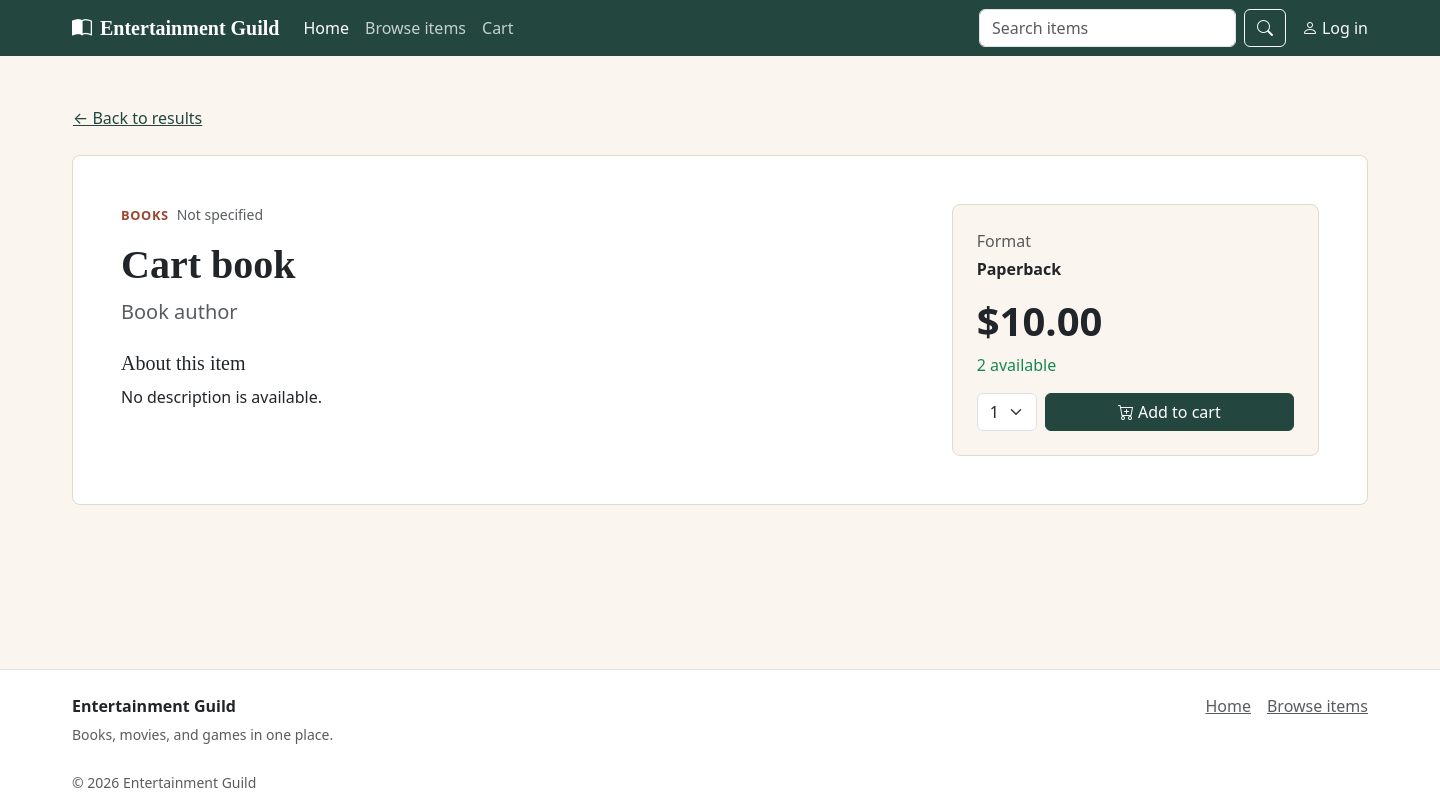
Test: adds an item to the cart and limits quantity to the stock available
Expected: the heading "Cart book" is shown, [121, 242, 296, 287]
Select "2" in the dropdown named "Quantity" at (1007, 412), box [977, 393, 1037, 431]
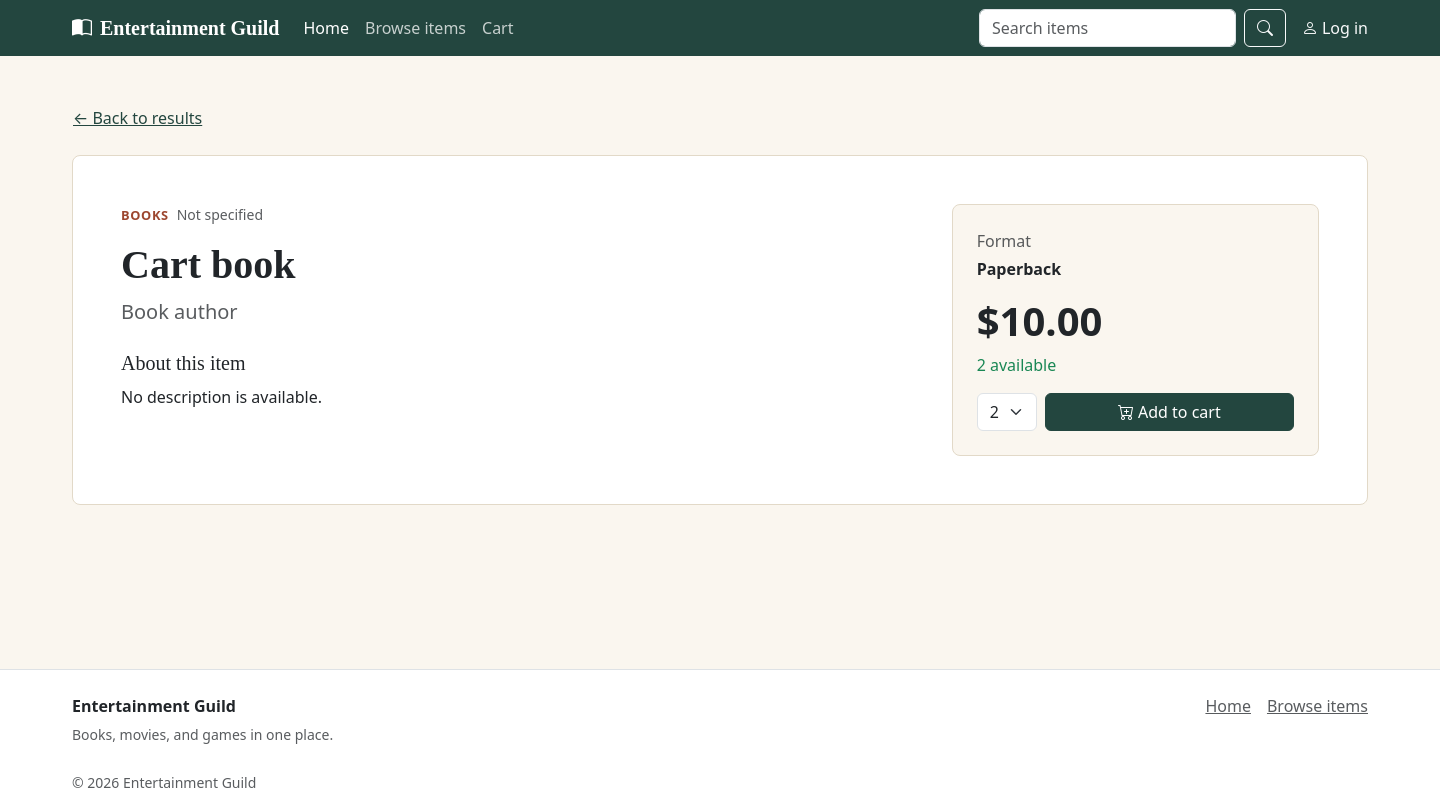
Click the button "Add to cart".
click(1169, 412)  # box [1045, 393, 1294, 431]
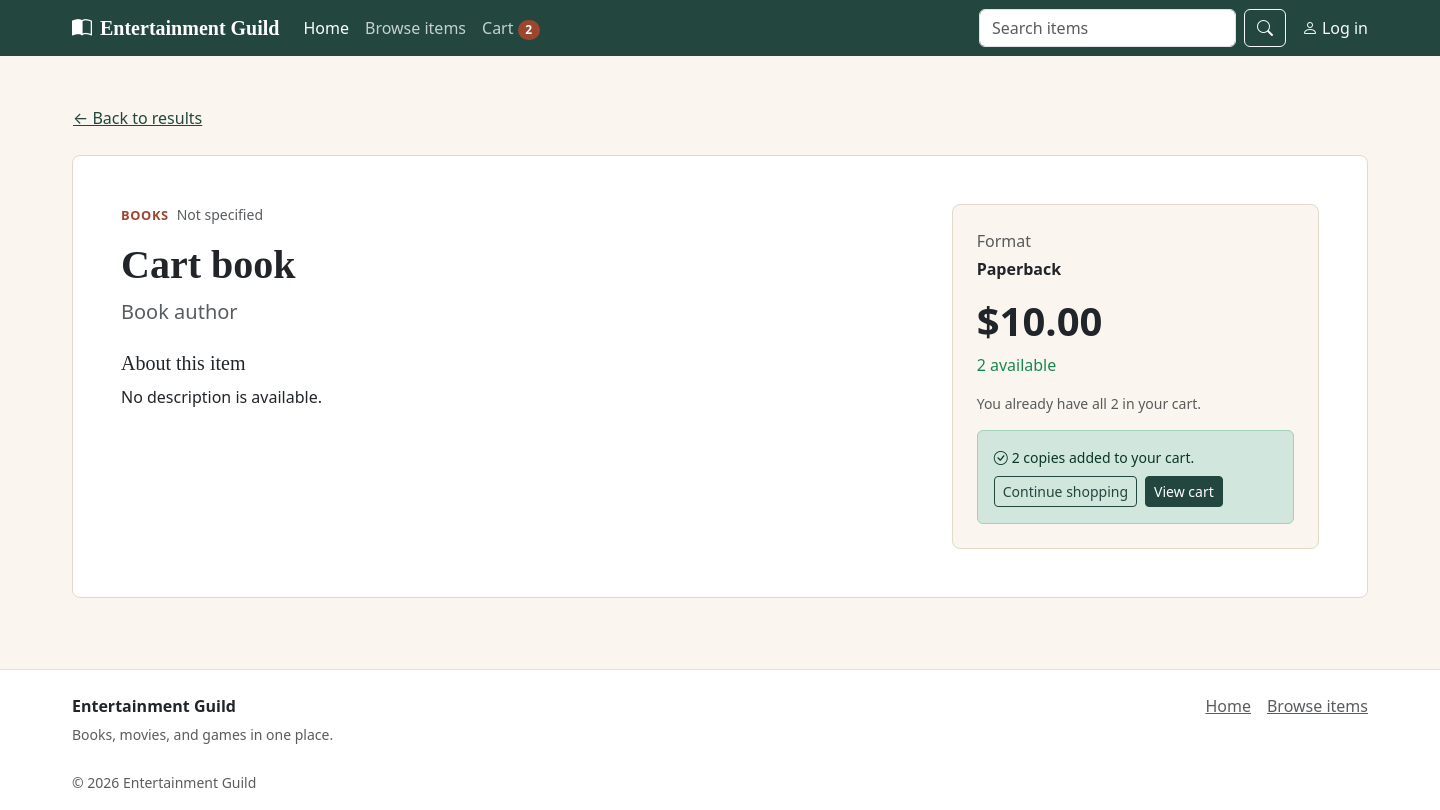
Result: the text "2 copies added to your cart. Continue shopping View cart" is shown at [977, 430, 1294, 524]
Result: the text "You already have all 2 in your cart." is shown at [977, 394, 1201, 413]
Click the link "View cart".
click(1184, 491)  # box [1145, 476, 1223, 507]
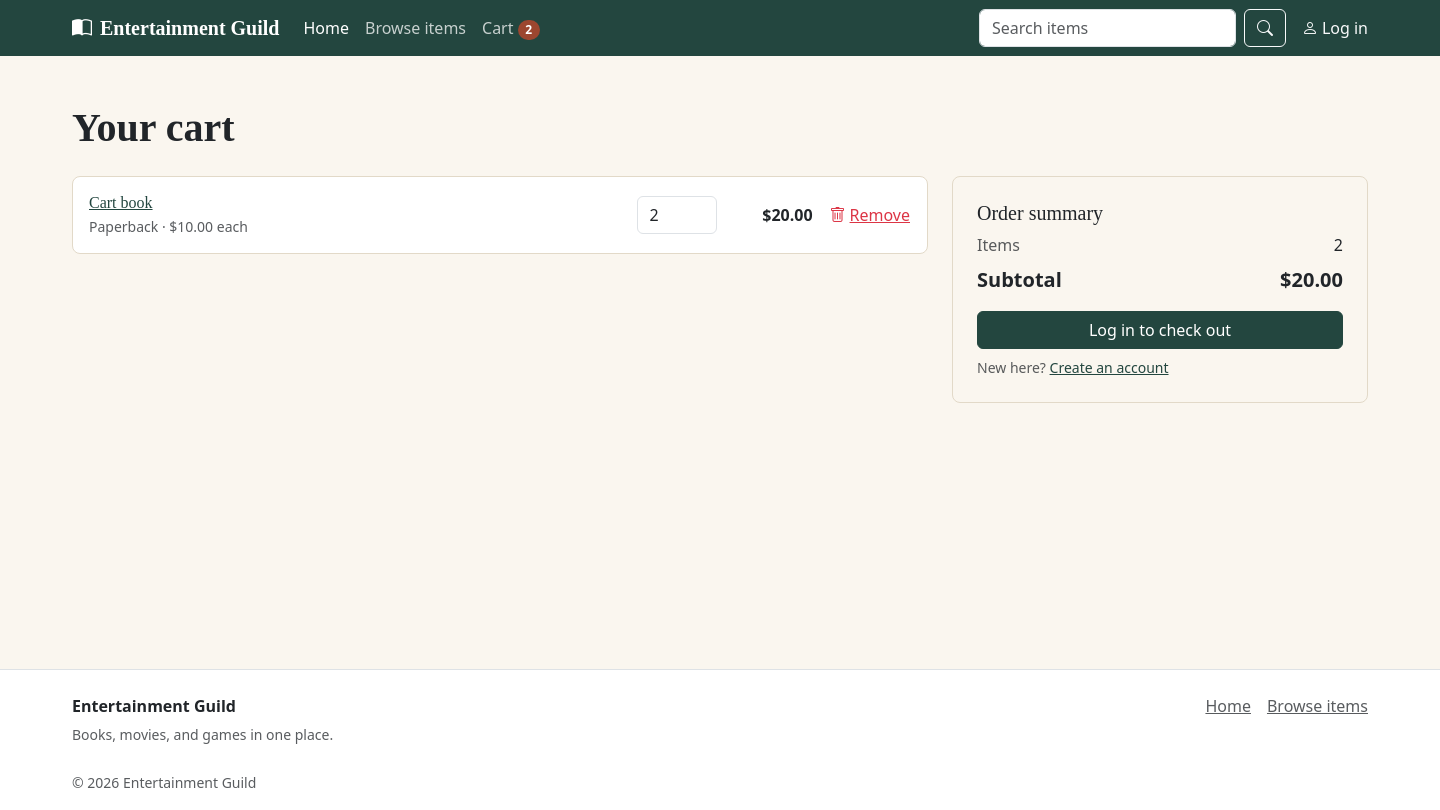
Result: the heading "Your cart" is shown at [72, 105, 235, 150]
Result: the text "$20.00" in the row of "each" is shown at [762, 204, 812, 226]
Can't go over stock
Replace the text in the number field named "Quantity of Cart book" with "3" at (676, 215), box [636, 196, 716, 234]
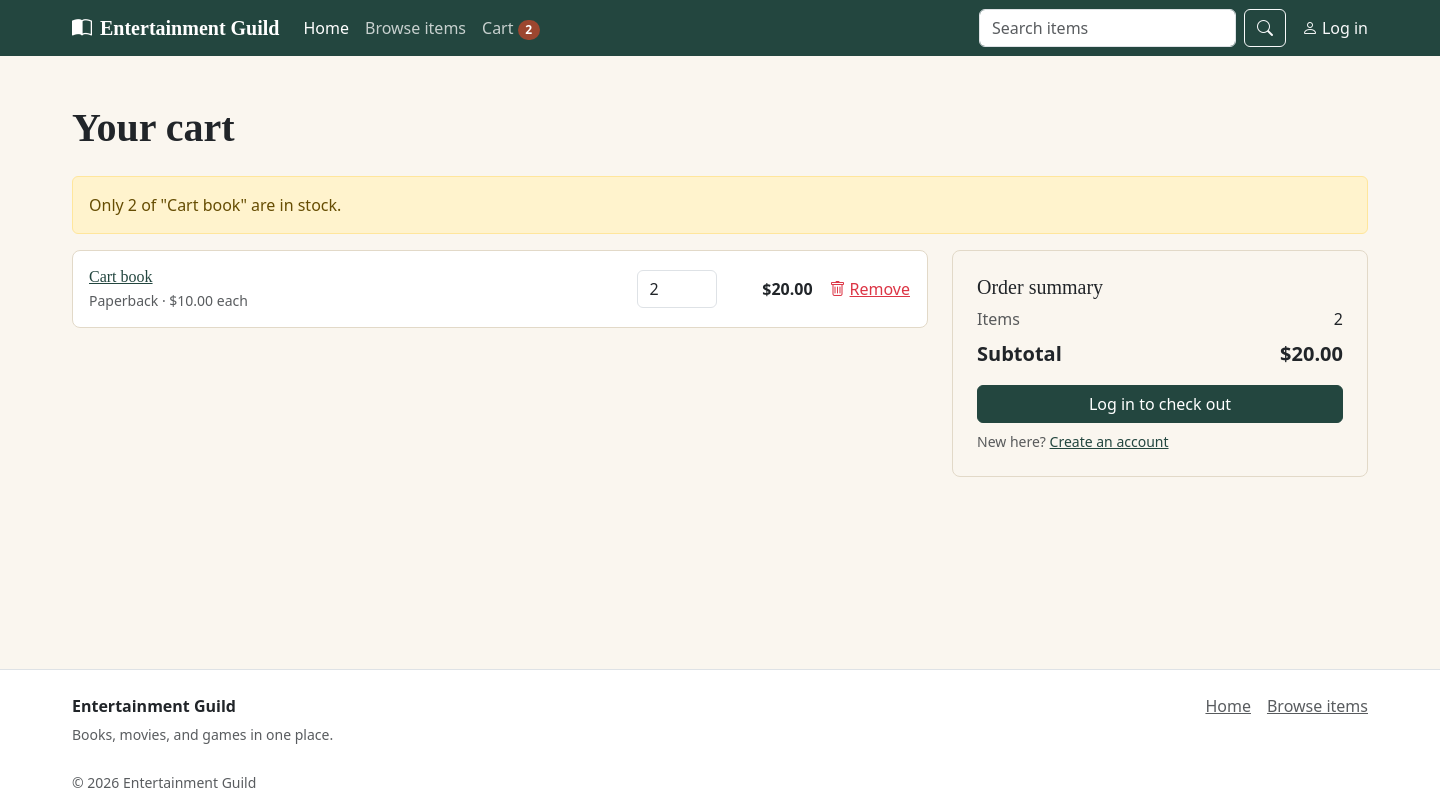
Result: the message reads "Only 2 of \"Cart book\" are in stock." at [89, 194, 341, 216]
Click the button "Remove".
click(870, 289)  # box [828, 276, 911, 302]
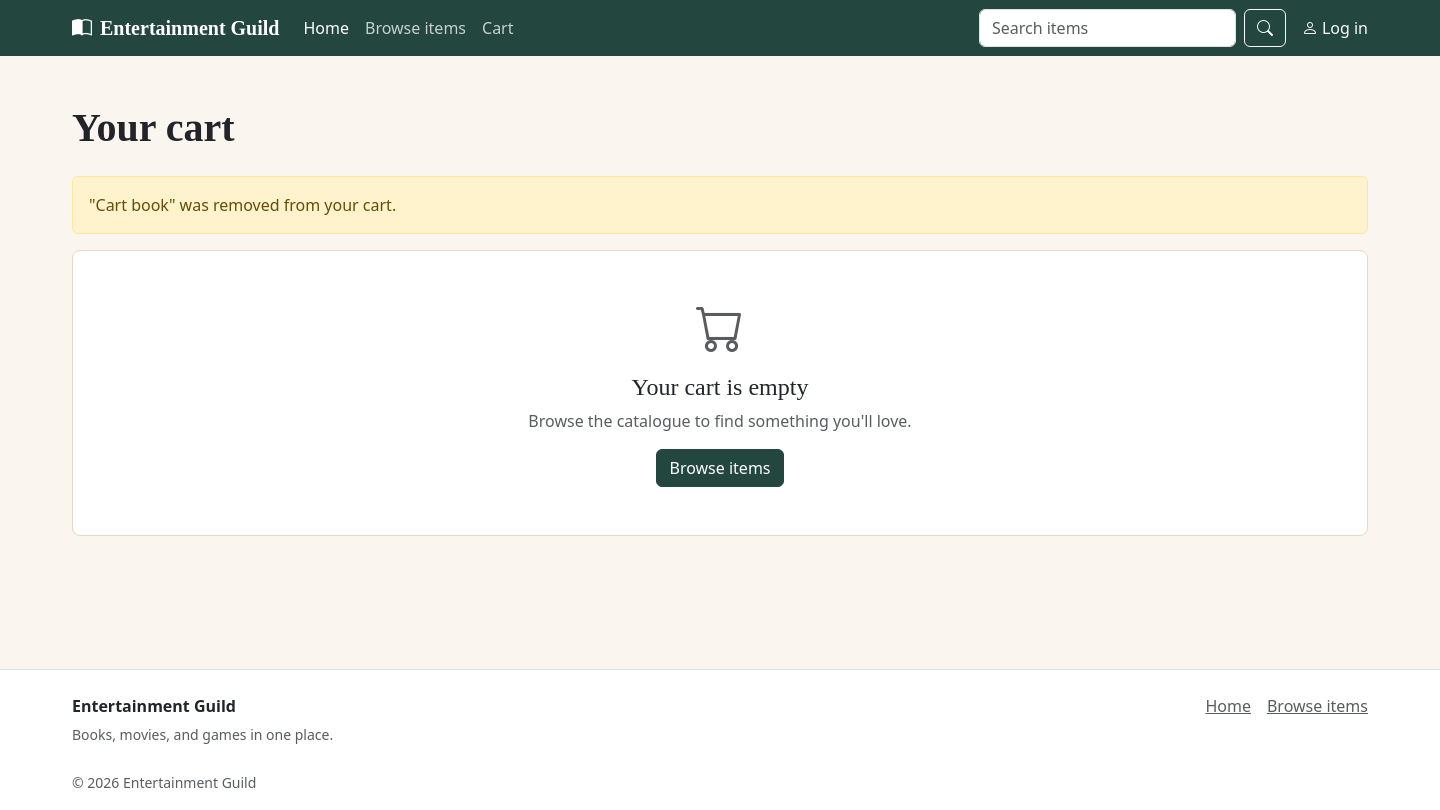
Result: the heading "Your cart is empty" is shown at [632, 374, 808, 400]
